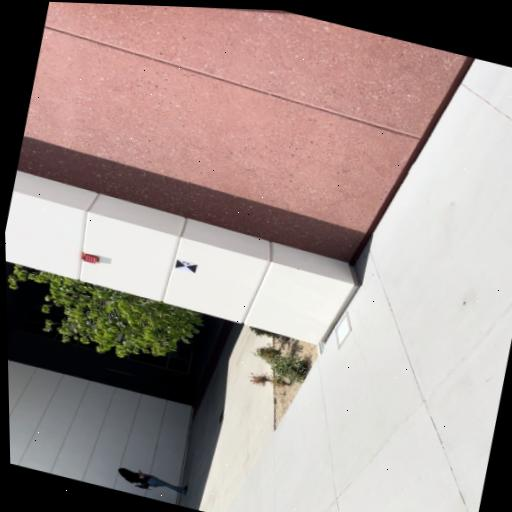target2: (174, 259, 197, 273)
